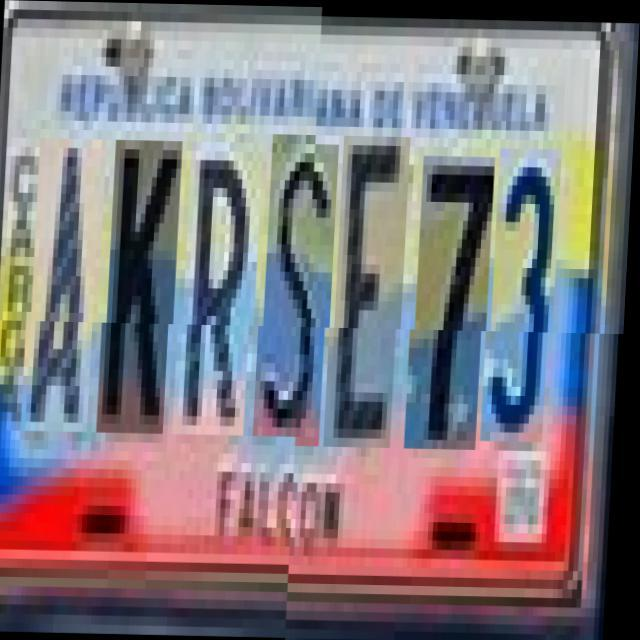3: (490, 146, 563, 440)
7: (414, 154, 496, 448)
A: (29, 147, 108, 441)
E: (333, 134, 412, 446)
K: (105, 148, 183, 442)
R: (181, 150, 264, 443)
S: (262, 142, 341, 445)
